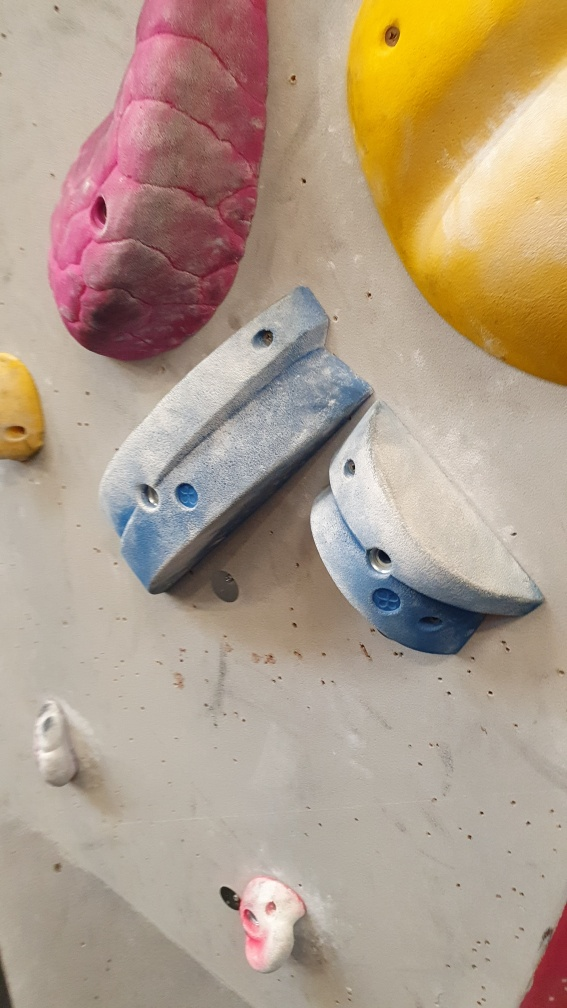Hand Start: (208, 565, 245, 608), (216, 883, 242, 911)
Pinch: (95, 282, 376, 601), (300, 399, 547, 659)
